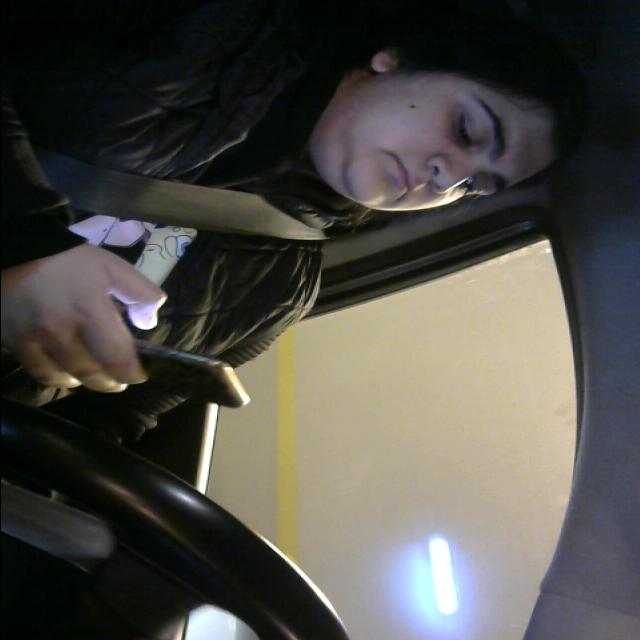mobile use: (81, 336, 250, 411)
